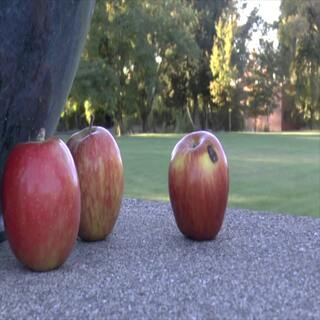apple: (2, 133, 81, 277), (163, 120, 236, 248), (60, 122, 124, 246)
